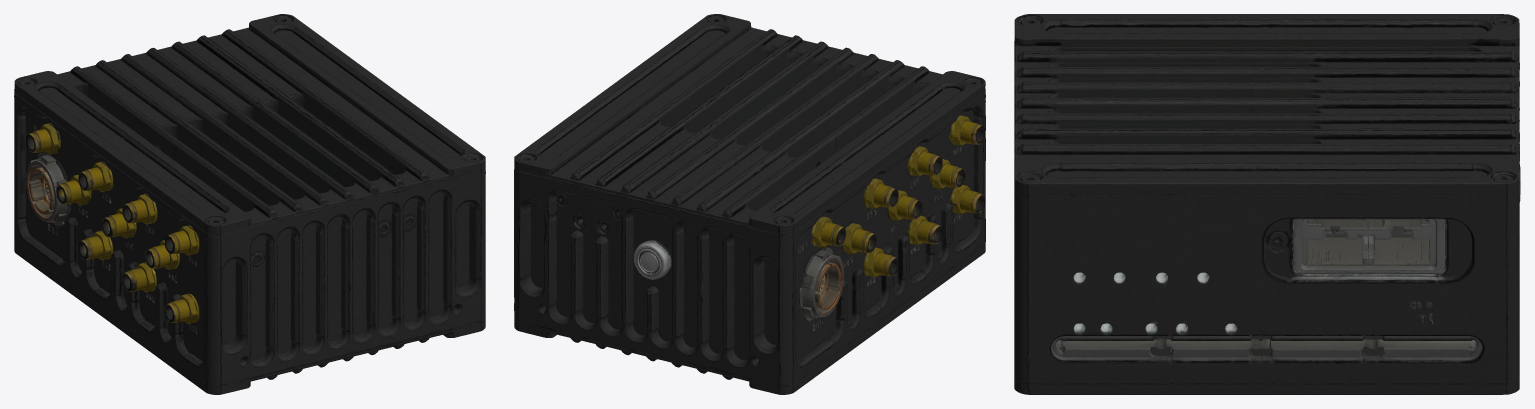
The model's file is qmts-v1.glb.
3 renders of one model, left to right at view 1: azimuth 30°, elevation 25°; view 2: azimuth 150°, elevation 25°; view 3: azimuth 270°, elevation 25°, orthographic. The views are drawn at different scales.
Visible parts, largest first — view 1: tripo_node_1621cccd-3d6f-4d9b-ba48-394c19a14bdb; view 2: tripo_node_1621cccd-3d6f-4d9b-ba48-394c19a14bdb; view 3: tripo_node_1621cccd-3d6f-4d9b-ba48-394c19a14bdb.
Part boxes in pixels (box(x1,y1,x2,y2)): tripo_node_1621cccd-3d6f-4d9b-ba48-394c19a14bdb: box(14, 14, 485, 394); tripo_node_1621cccd-3d6f-4d9b-ba48-394c19a14bdb: box(514, 14, 985, 394); tripo_node_1621cccd-3d6f-4d9b-ba48-394c19a14bdb: box(1014, 14, 1520, 394).
Bounding box in the file's own units: 0.8253 × 0.4531 × 0.9804.
Materials: 1 (1 with a texture image).
